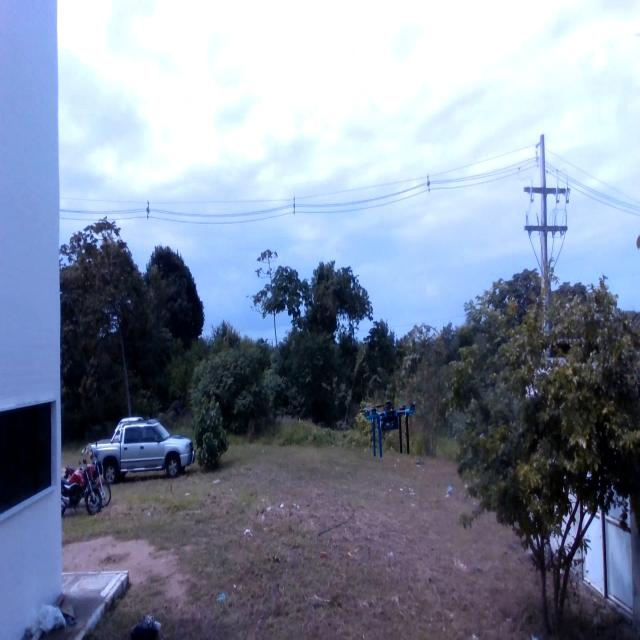-uav-: (359, 378, 417, 465)
